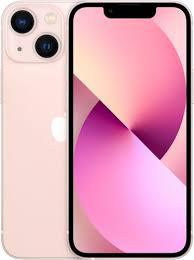Smartphone: (65, 10, 188, 255), (6, 2, 70, 260)
